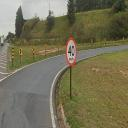speed_limit_40: (66, 36, 77, 67)
